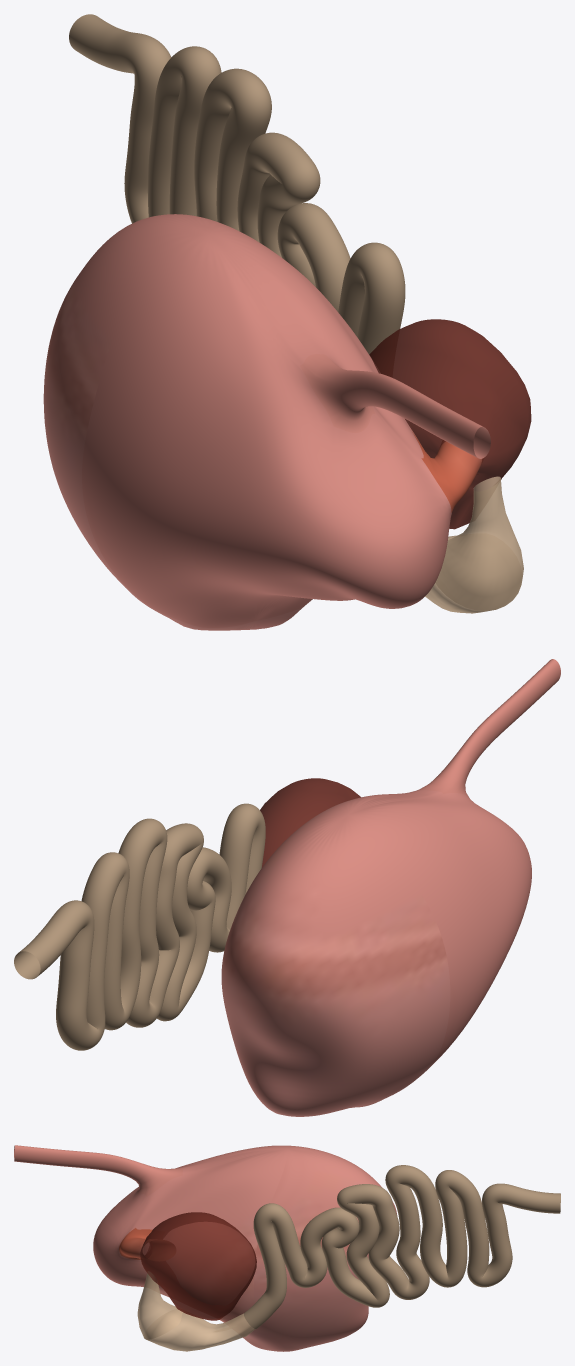
Rendered from asset.glb.
The picture shows the model from 3 angles, top to bottom: view 1: azimuth 30°, elevation 25°; view 2: azimuth 150°, elevation 25°; view 3: azimuth 270°, elevation 25°; orthographic projection. The views are drawn at different scales.
Visible parts, largest first — view 1: Cow_Digestive_System:Sphere_001_Sphere_001_Stomach, Cow_Digestive_System:NurbsPath_NurbsPath_Intestine, Cow_Digestive_System:Sphere_005_Sphere_005_Omasum, Cow_Digestive_System:Sphere_002_Sphere_002_Abosmasum; view 2: Cow_Digestive_System:Sphere_001_Sphere_001_Stomach, Cow_Digestive_System:NurbsPath_NurbsPath_Intestine, Cow_Digestive_System:Sphere_005_Sphere_005_Omasum; view 3: Cow_Digestive_System:Sphere_001_Sphere_001_Stomach, Cow_Digestive_System:NurbsPath_NurbsPath_Intestine, Cow_Digestive_System:Sphere_005_Sphere_005_Omasum, Cow_Digestive_System:Sphere_002_Sphere_002_Abosmasum.
Part boxes in pixels (x1,y1,x2,y2): Cow_Digestive_System:Sphere_001_Sphere_001_Stomach: [43, 214, 490, 630]; Cow_Digestive_System:NurbsPath_NurbsPath_Intestine: [69, 14, 405, 354]; Cow_Digestive_System:Sphere_005_Sphere_005_Omasum: [369, 319, 531, 529]; Cow_Digestive_System:Sphere_002_Sphere_002_Abosmasum: [425, 476, 523, 613]; Cow_Digestive_System:Sphere_001_Sphere_001_Stomach: [221, 659, 560, 1116]; Cow_Digestive_System:NurbsPath_NurbsPath_Intestine: [14, 803, 265, 1050]; Cow_Digestive_System:Sphere_005_Sphere_005_Omasum: [260, 778, 360, 867]; Cow_Digestive_System:Sphere_001_Sphere_001_Stomach: [14, 1145, 397, 1351]; Cow_Digestive_System:NurbsPath_NurbsPath_Intestine: [244, 1165, 560, 1328]; Cow_Digestive_System:Sphere_005_Sphere_005_Omasum: [140, 1212, 256, 1320]; Cow_Digestive_System:Sphere_002_Sphere_002_Abosmasum: [137, 1271, 255, 1351].
Size of the model in its own units: 3.23 by 3.8 by 8.8.
4 materials, 3 textured.
